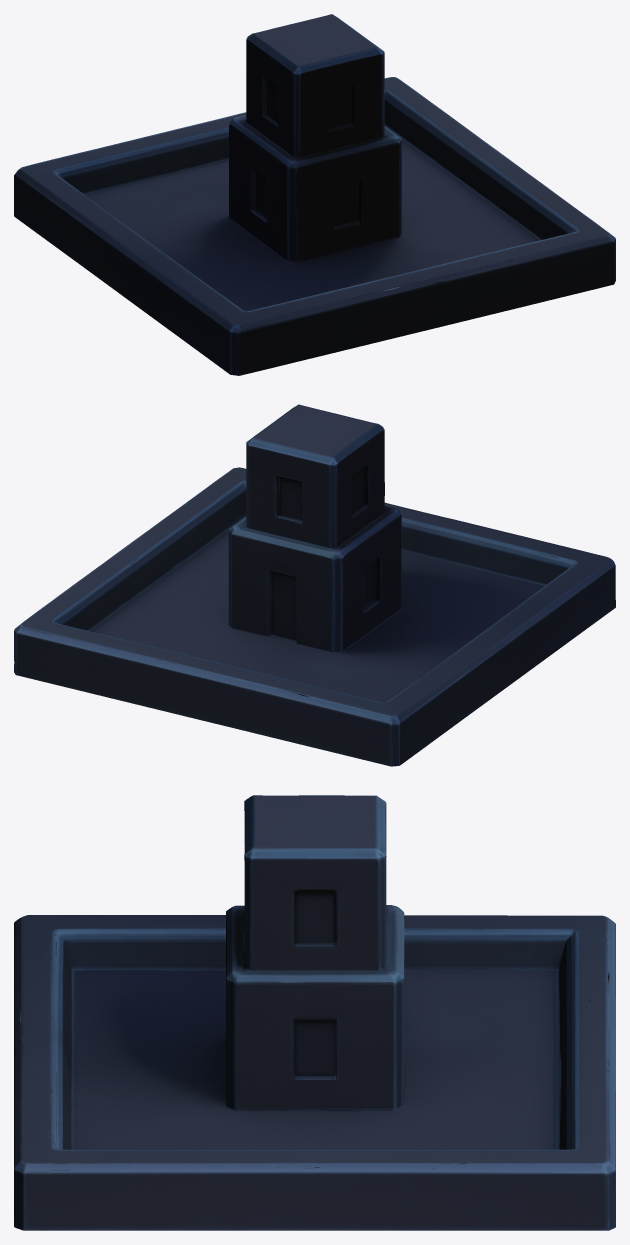
Rendered from empresa-3d-2.glb.
3 views of the same model, one above another, from view 1: azimuth 30°, elevation 25°; view 2: azimuth 150°, elevation 25°; view 3: azimuth 270°, elevation 25° (orthographic). The views are drawn at different scales.
Parts seen in each view (by area): view 1: world; view 2: world; view 3: world.
Part boxes in pixels (box(x1,y1,x2,y2)): world: box(14, 14, 615, 375); world: box(14, 404, 615, 766); world: box(14, 795, 615, 1230).
Bounding box in the file's own units: 1 × 0.5176 × 1.
Materials: 1 (1 with a texture image).
